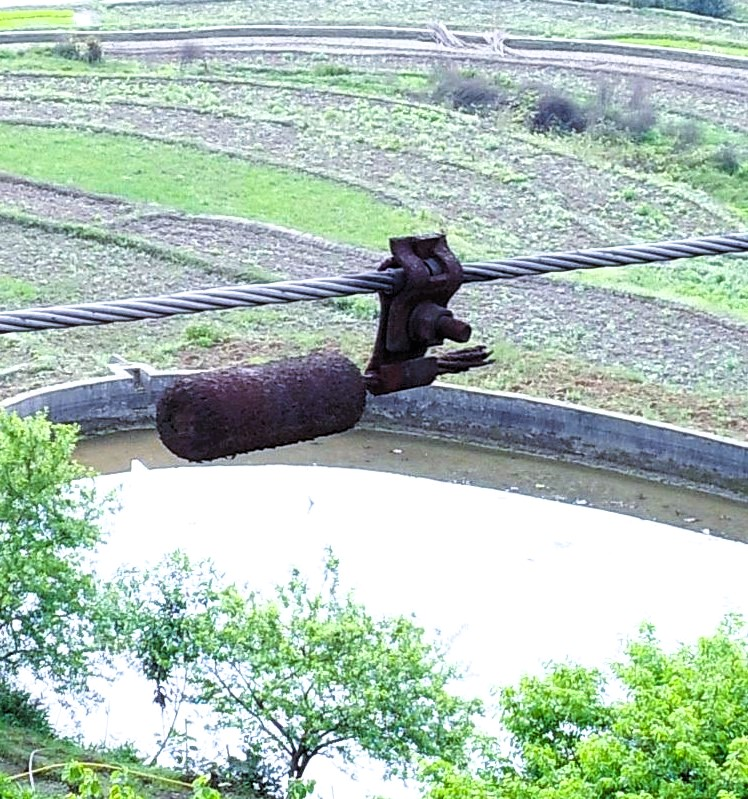Damage of shockproof hammer: (143, 217, 506, 480)
